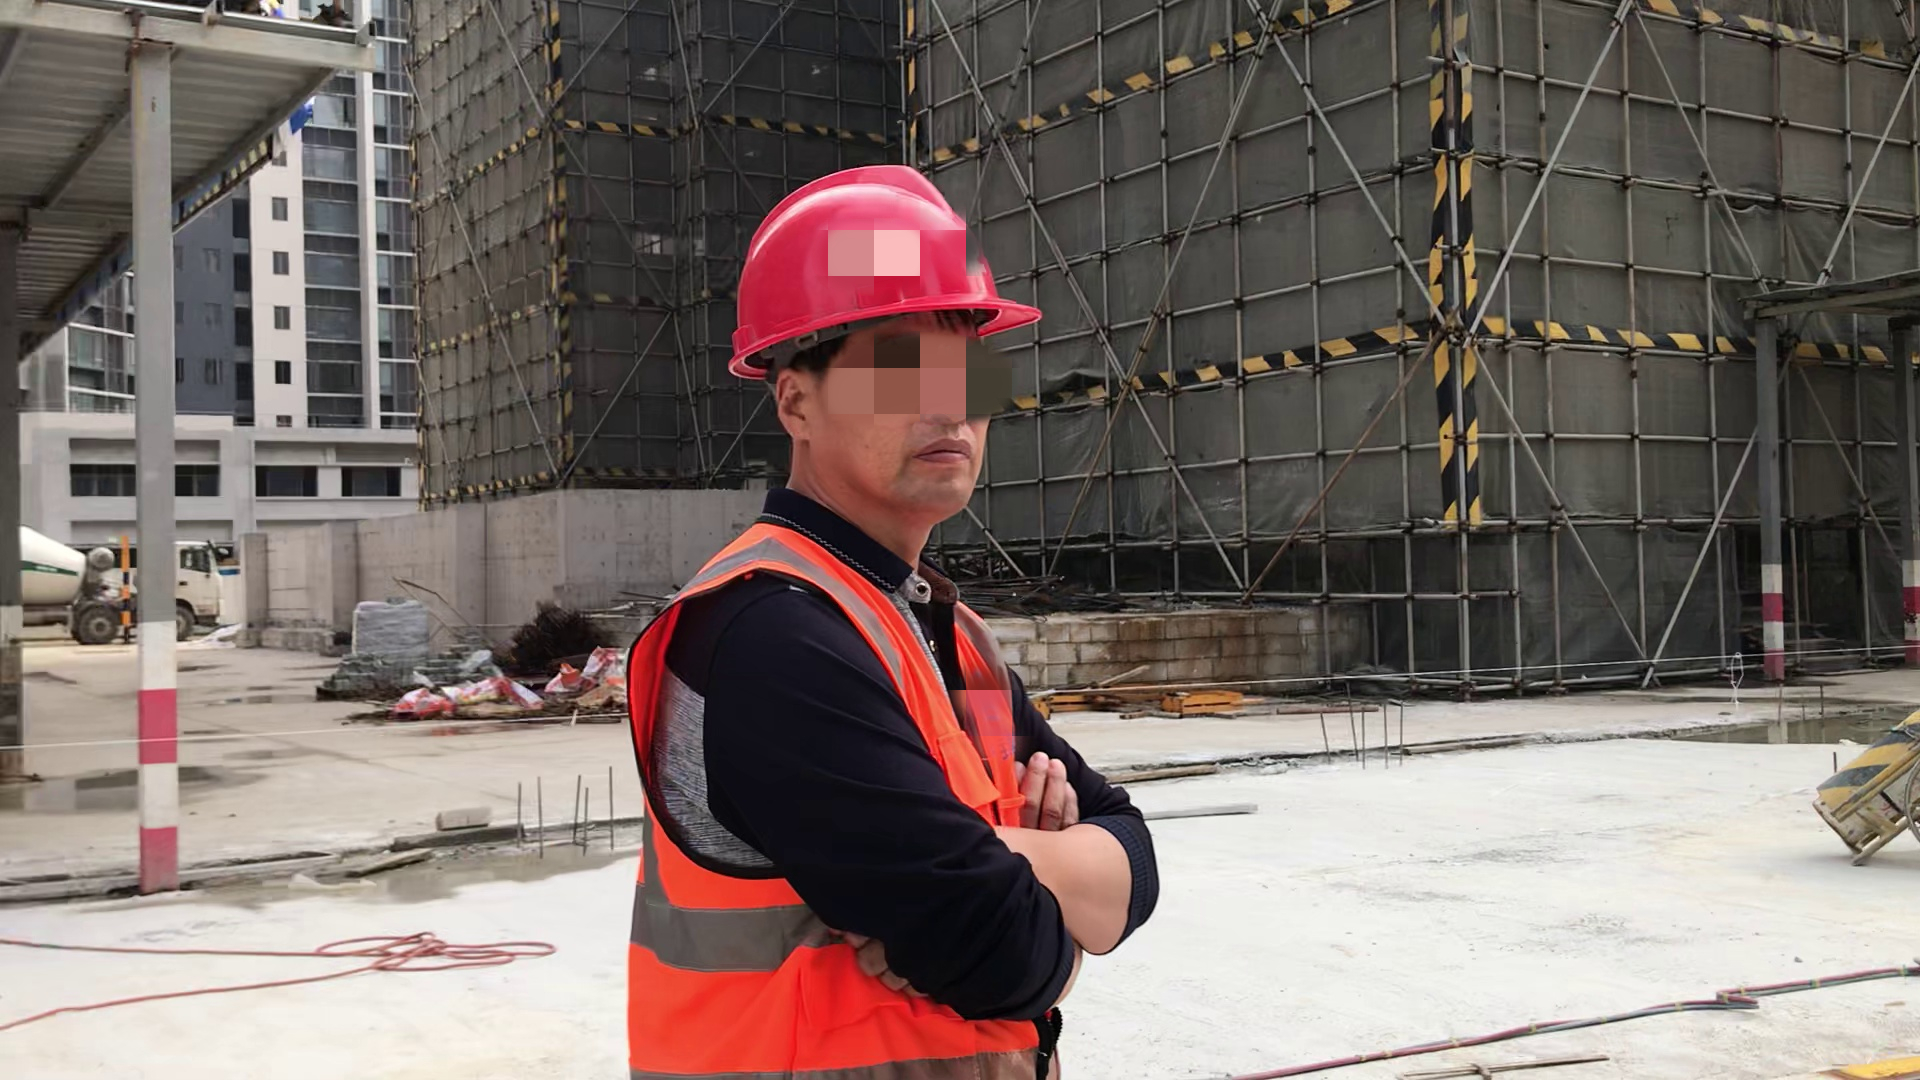brick: (309, 625, 502, 715)
helmet: (722, 168, 1044, 375)
person: (608, 149, 1181, 1080)
vest: (638, 524, 1046, 1080)
